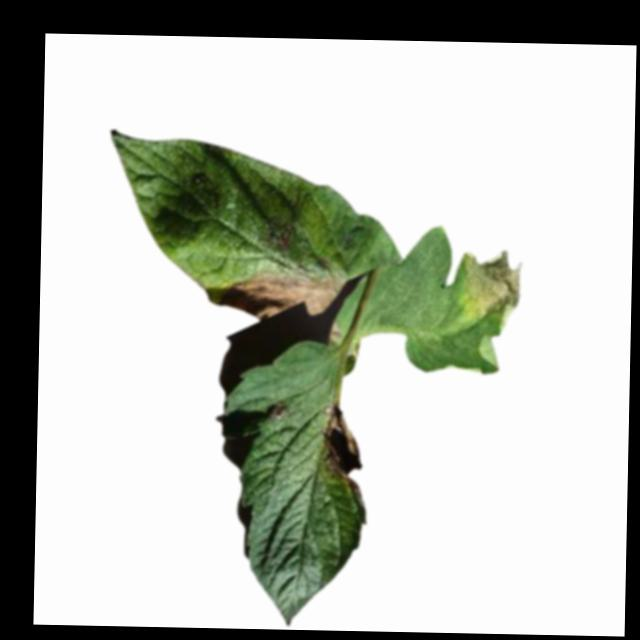Late_blight: (215, 271, 345, 322), (459, 247, 523, 323), (318, 402, 364, 500), (265, 398, 288, 421), (329, 323, 340, 340)
